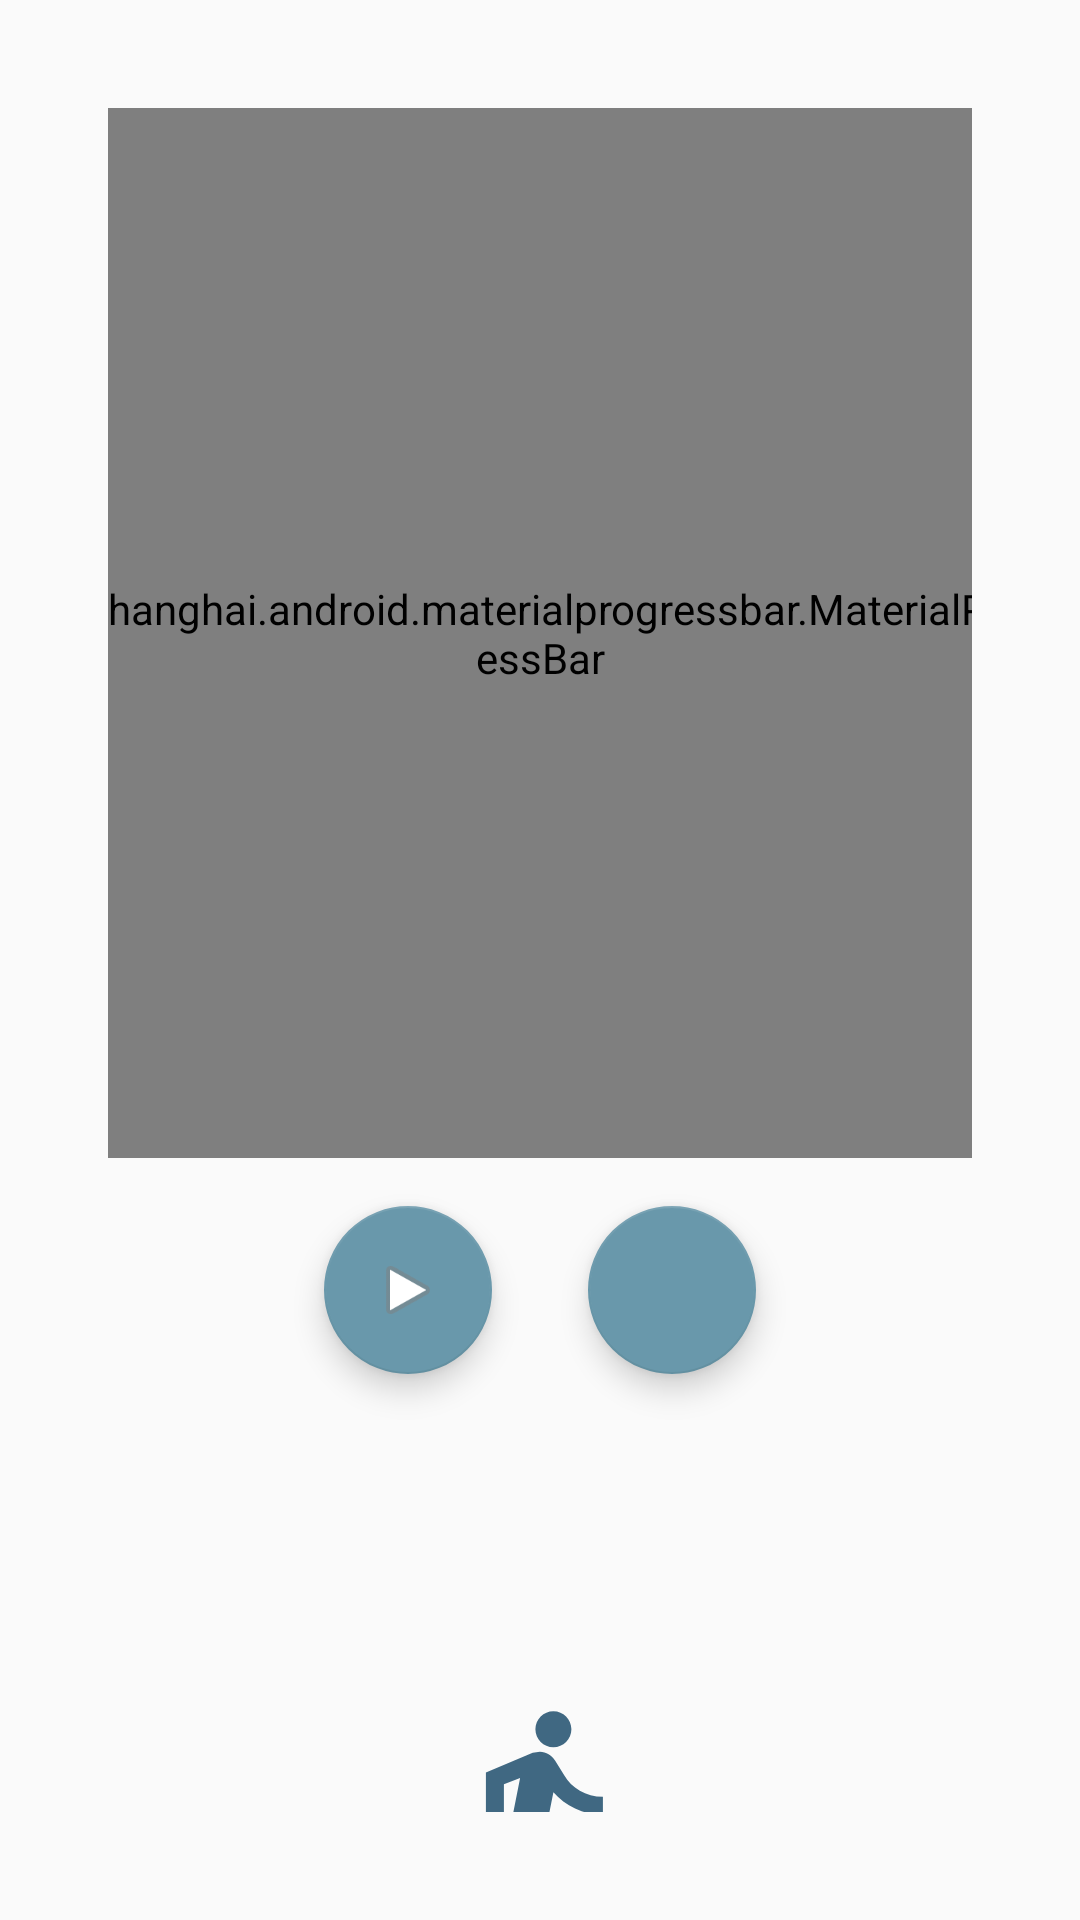

Where to tap for icons on this 1080px×1920px app screen, as point (x, y):
play: point (408, 1290)
